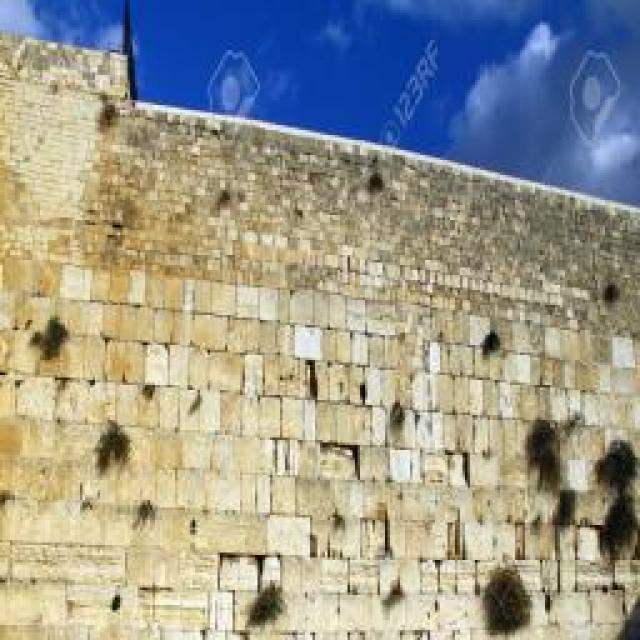crack: (1, 29, 640, 639)
vegetation: (524, 422, 640, 568), (459, 570, 536, 631), (247, 569, 293, 638), (97, 419, 132, 470), (40, 318, 68, 374)
